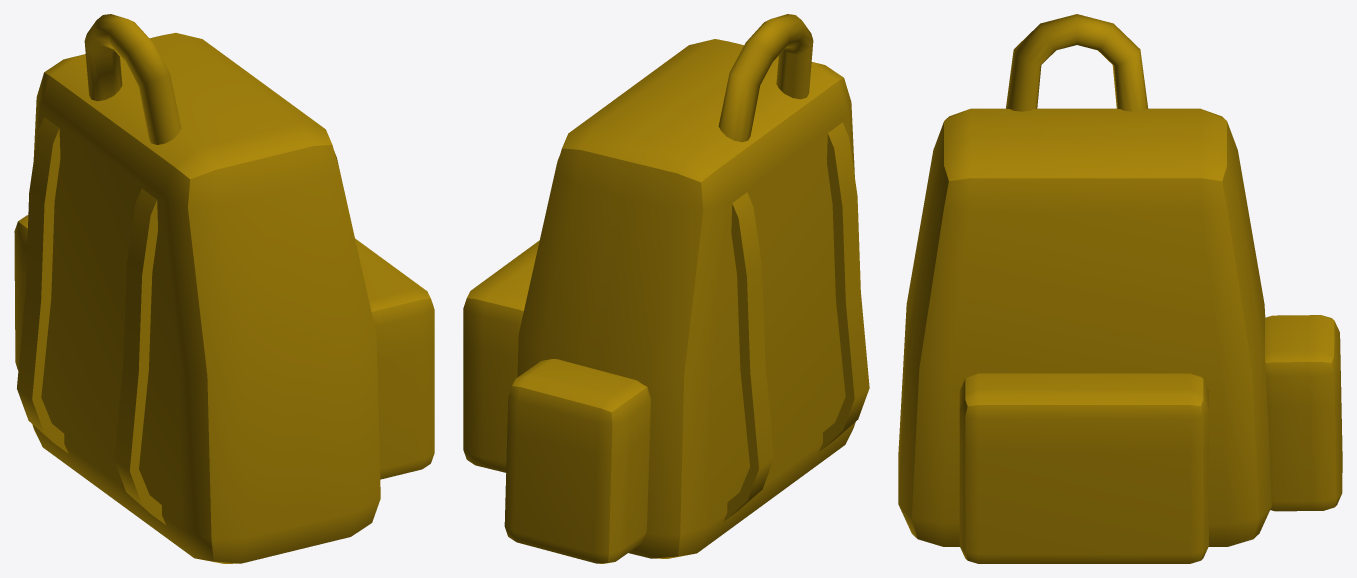
File: mochila.fbx
The picture shows the model from 3 angles, left to right: view 1: azimuth 30°, elevation 25°; view 2: azimuth 150°, elevation 25°; view 3: azimuth 270°, elevation 25°; orthographic projection. The views are drawn at different scales.
Parts seen in each view (by area): view 1: pCube6; view 2: pCube6; view 3: pCube6.
Part boxes in pixels (x1=…): pCube6: x1=14, y1=14, x2=434, y2=563; pCube6: x1=463, y1=14, x2=869, y2=563; pCube6: x1=898, y1=14, x2=1342, y2=563.
Size of the model in its own units: 30.42 by 48.18 by 41.54.
